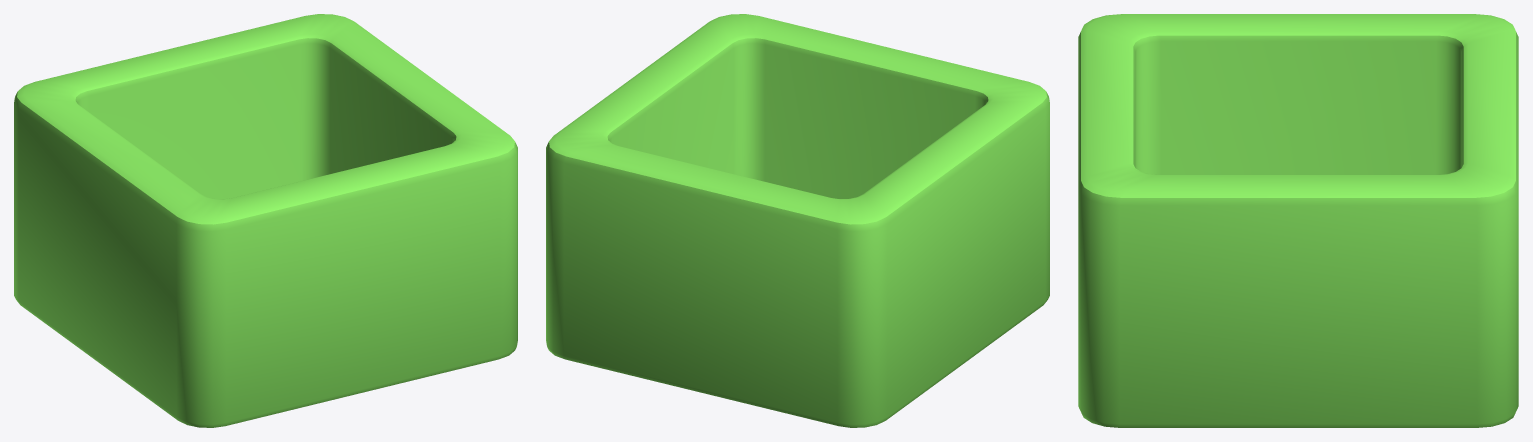
3 renders of one model, left to right at view 1: azimuth 30°, elevation 25°; view 2: azimuth 150°, elevation 25°; view 3: azimuth 270°, elevation 25°, orthographic. The views are drawn at different scales.
Visible parts, largest first — view 1: Shape_1x1; view 2: Shape_1x1; view 3: Shape_1x1.
Part boxes in pixels (x1,y1,x2,y2): Shape_1x1: [14, 14, 517, 427]; Shape_1x1: [546, 14, 1049, 427]; Shape_1x1: [1078, 14, 1518, 427].
Size of the model in its own units: 0.85 by 0.5 by 0.85.
